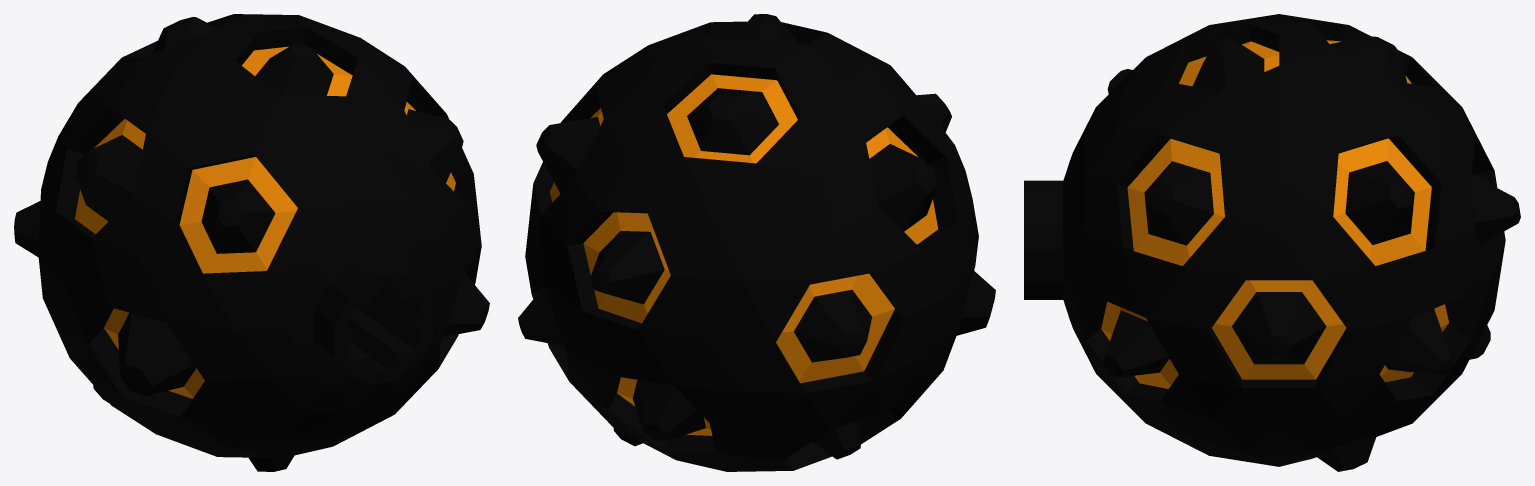
The model's file is Spiky ball of the lazers.fbx.
The picture shows the model from 3 angles, left to right: view 1: azimuth 30°, elevation 25°; view 2: azimuth 150°, elevation 25°; view 3: azimuth 270°, elevation 25°; orthographic projection.
Visible parts, largest first — view 1: Icosphere; view 2: Icosphere; view 3: Icosphere.
Part boxes in pixels (x1,y1,x2,y2): Icosphere: (14, 14, 489, 471); Icosphere: (518, 14, 995, 471); Icosphere: (1024, 14, 1520, 471).
Size of the model in its own units: 208 by 205 by 219.
